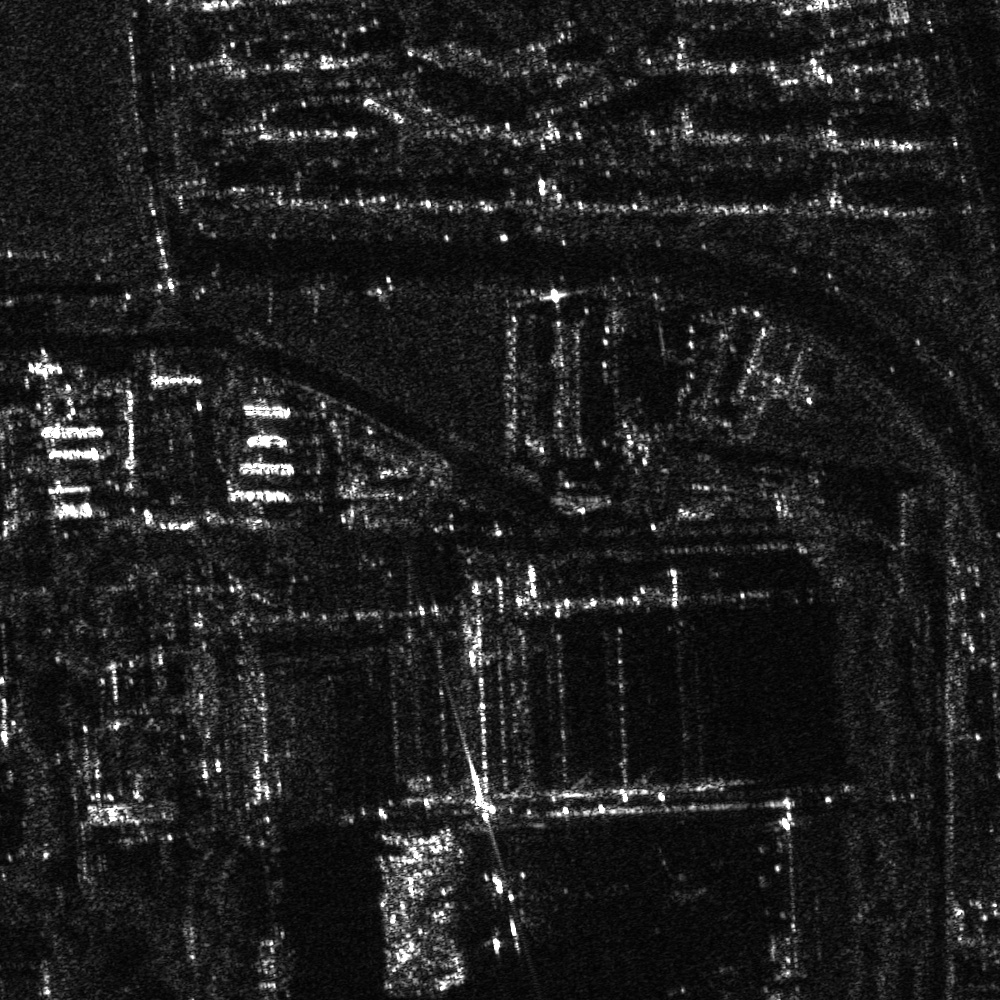Boeing737: (461, 864, 551, 958)
